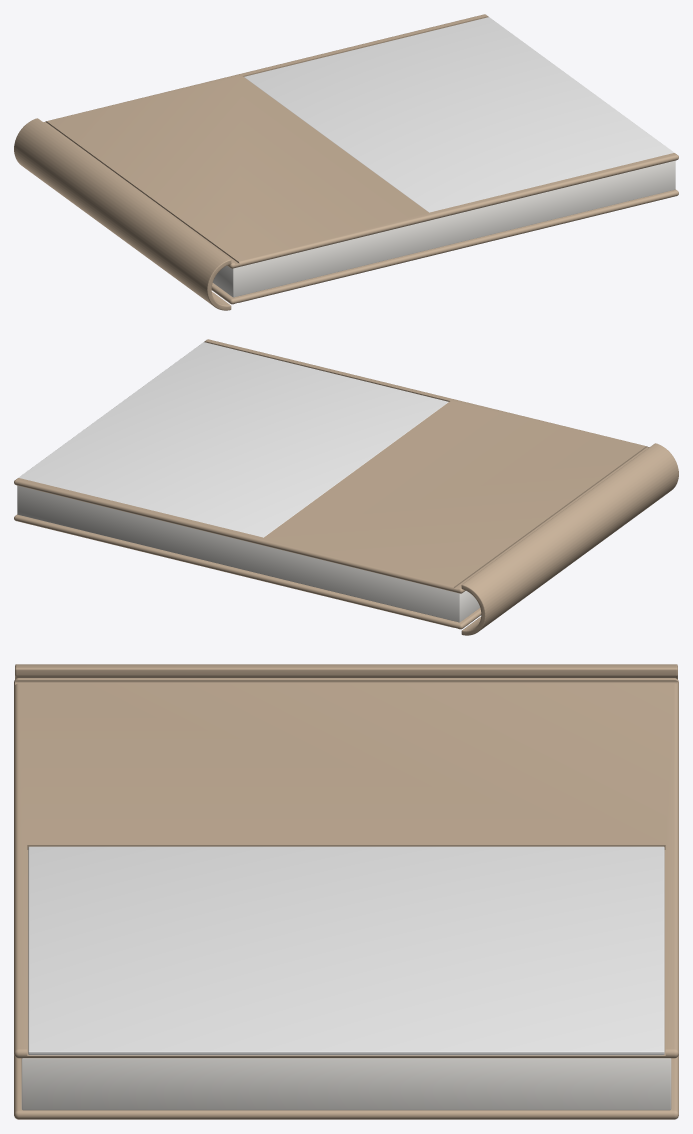
File: photo-side--landscape.glb
3 renders of one model, top to bottom at view 1: azimuth 30°, elevation 25°; view 2: azimuth 150°, elevation 25°; view 3: azimuth 270°, elevation 25°, orthographic. The views are drawn at different scales.
Visible parts, largest first — view 1: Photo, CoverFront, Pages, Spine, CoverBack; view 2: Photo, CoverFront, Pages, Spine, CoverBack; view 3: Photo, CoverFront, Pages, Spine, CoverBack.
Boxes of the visible parts, x1,y1,x2,y2 form: Photo: [244, 17, 674, 212]; CoverFront: [43, 14, 678, 268]; Pages: [213, 160, 675, 297]; Spine: [14, 118, 231, 310]; CoverBack: [211, 189, 678, 304]; Photo: [18, 342, 448, 537]; CoverFront: [14, 339, 649, 593]; Pages: [17, 485, 479, 622]; Spine: [461, 443, 678, 635]; CoverBack: [14, 514, 481, 629]; Photo: [28, 846, 664, 1055]; CoverFront: [14, 678, 678, 1058]; Pages: [21, 1058, 671, 1110]; Spine: [15, 664, 677, 679]; CoverBack: [14, 1055, 678, 1119].
Size of the model in its own units: 0.4208 by 0.043 by 0.3.
